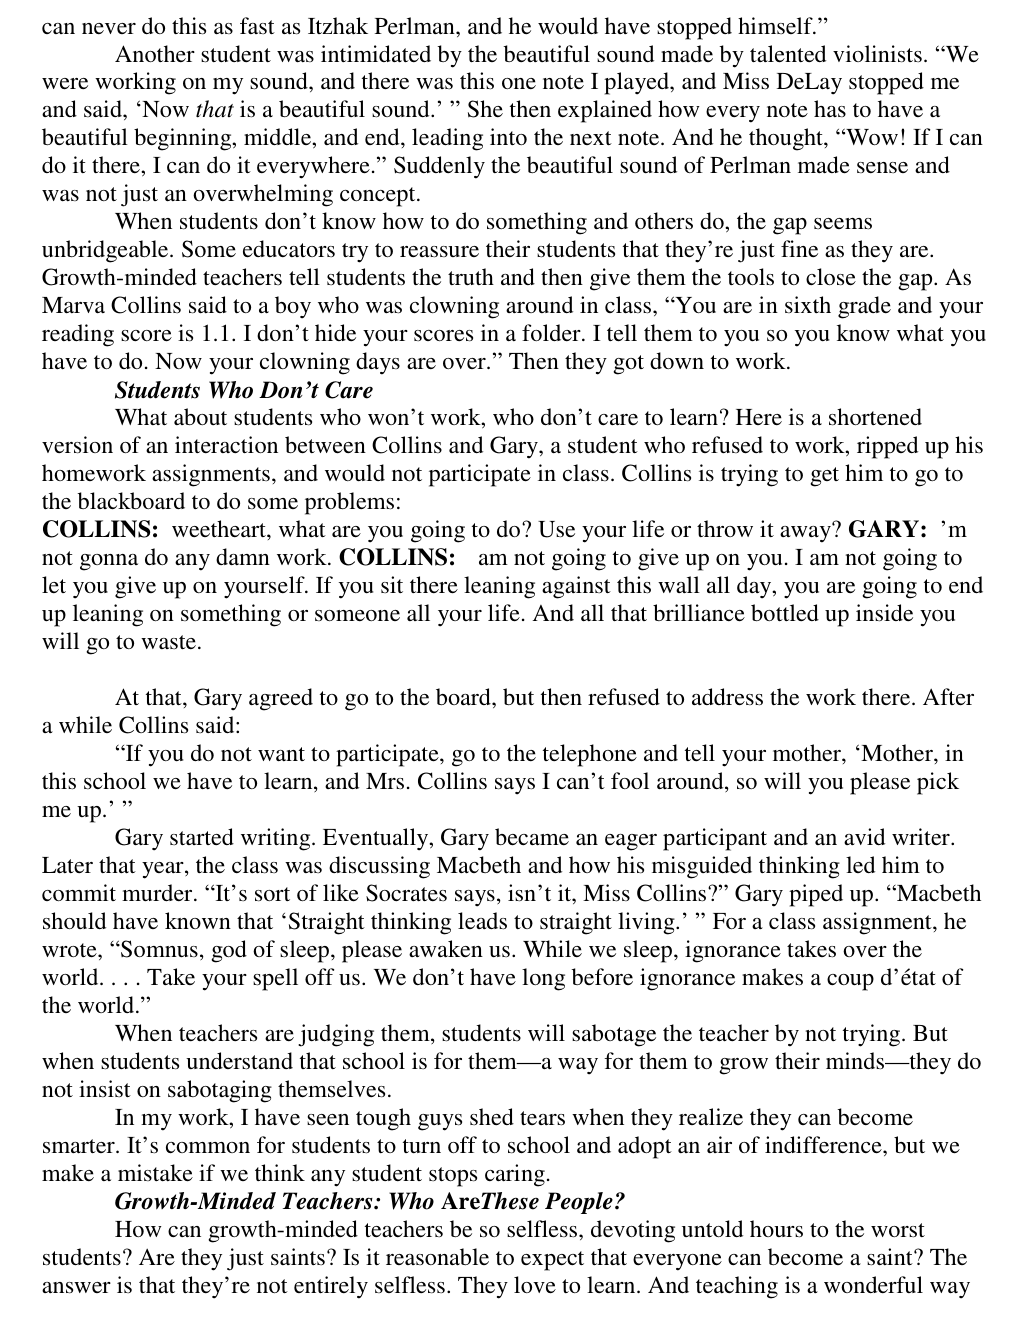latin: (26, 376, 986, 649), (35, 16, 993, 209), (38, 825, 990, 1011), (30, 1011, 983, 1187), (34, 209, 997, 376), (36, 685, 977, 825), (40, 1187, 973, 1304)
